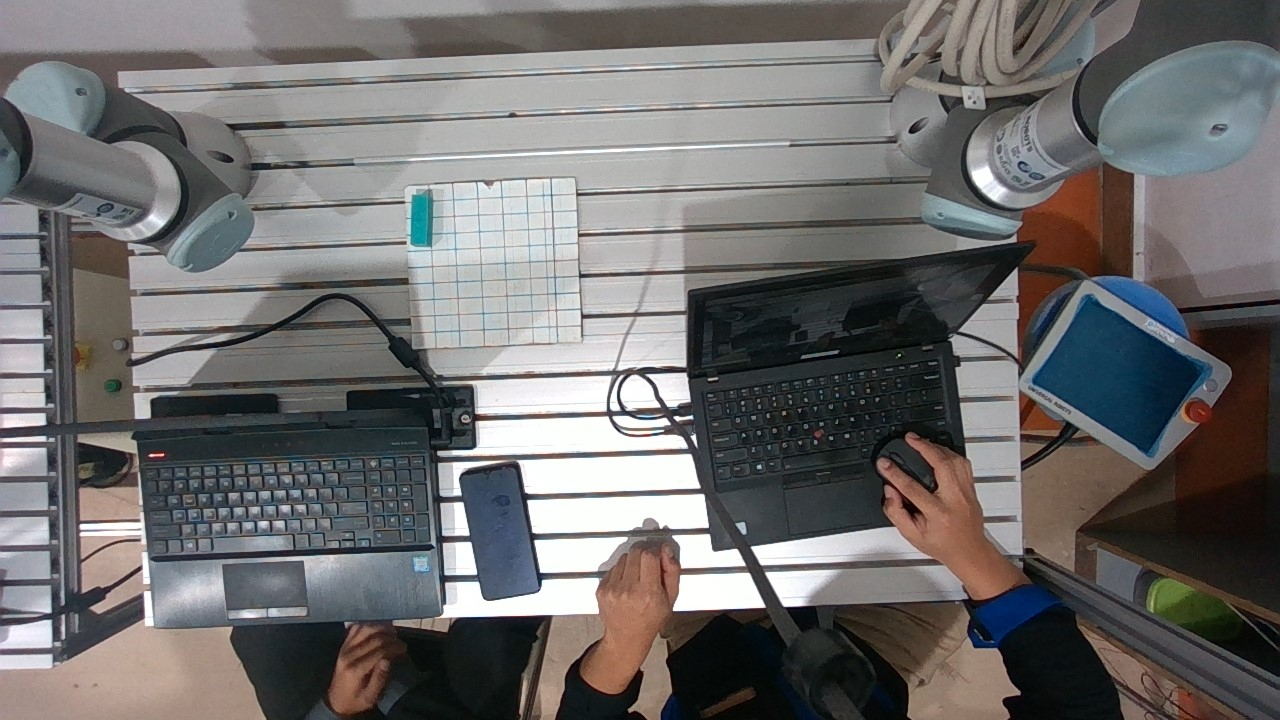box: (398, 175, 448, 258)
